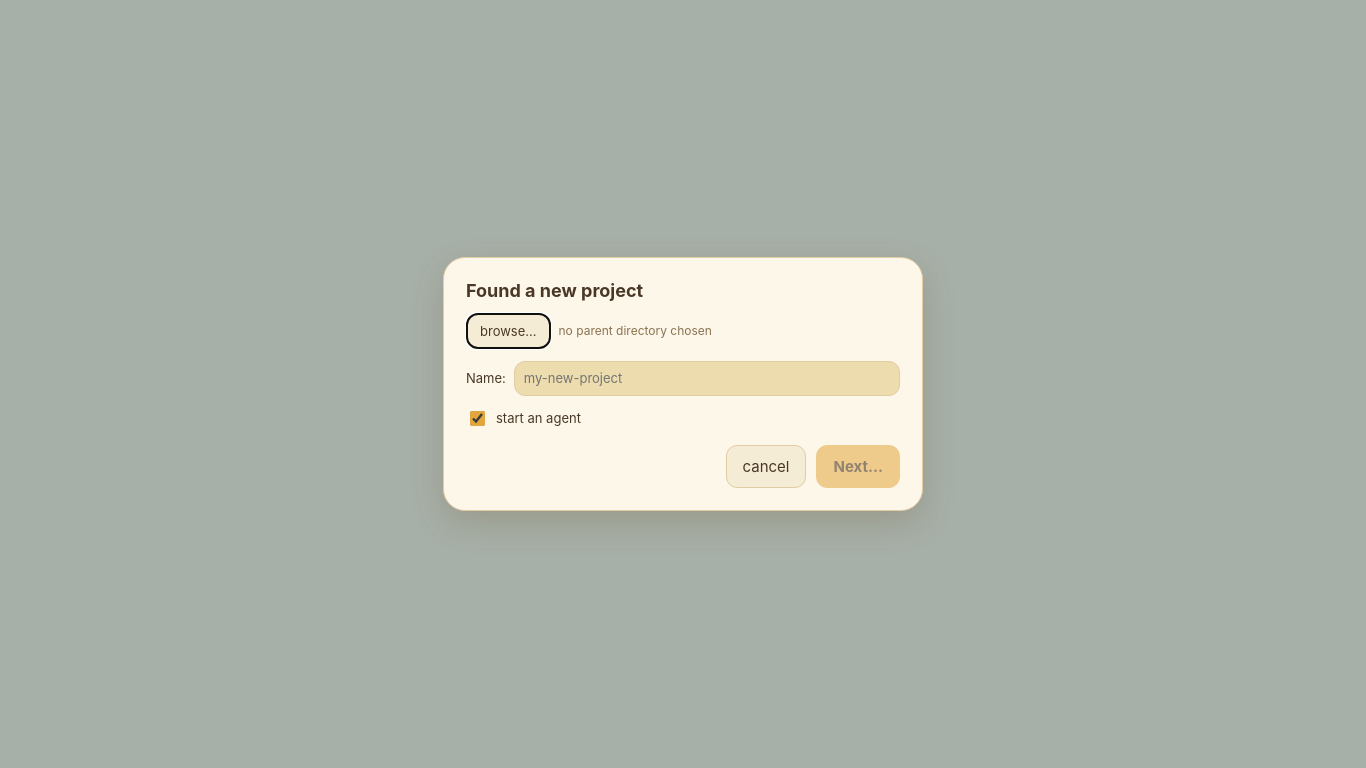
NewProjectPanel › disables 'Next…' until a parent directory AND a valid name are both chosen
Check: the button "Next…" is disabled, box [816,444,900,488]
Click the button "browse…" at (508, 331), box [466,313,550,349]
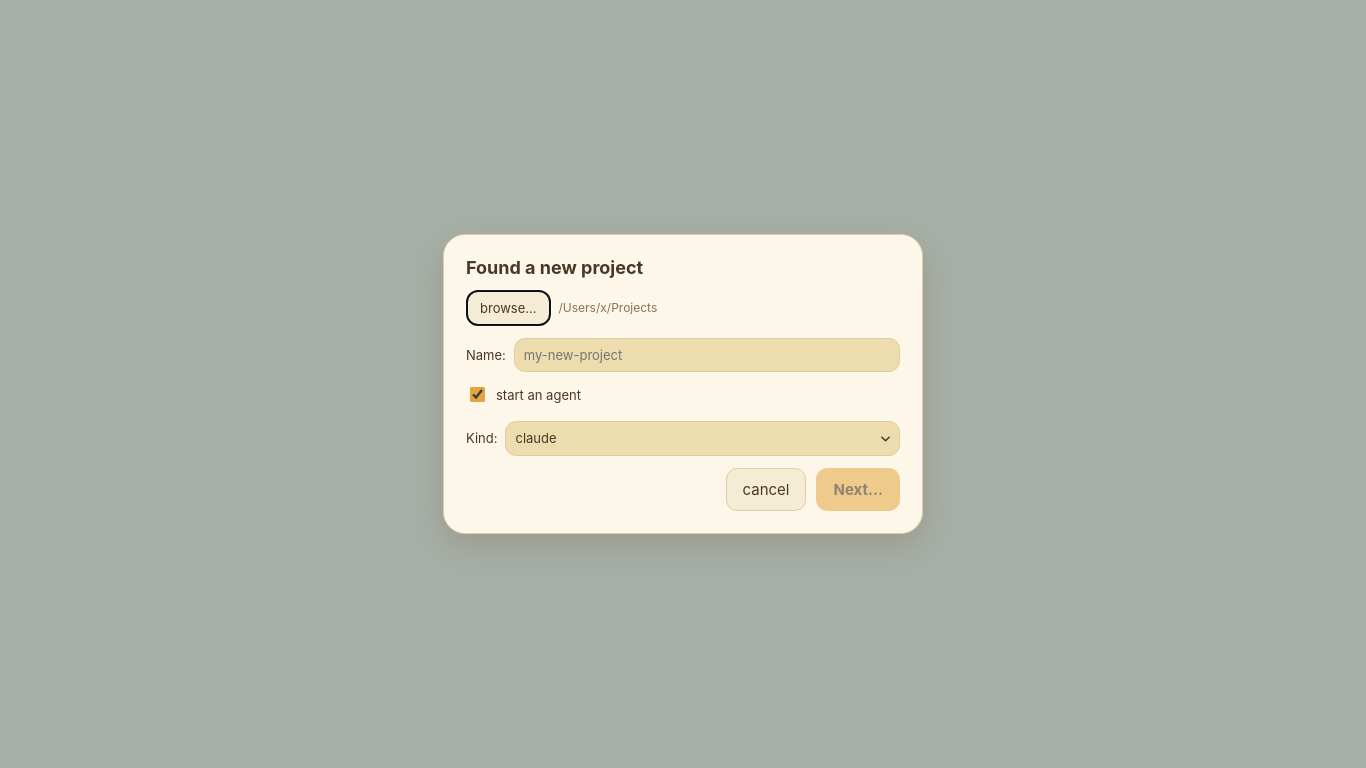
Check: the button "Next…" is disabled, box [816,468,900,511]
Check: the text "/Users/x/Projects" is shown, box [558,299,657,318]
Type "widget" into the field with placeholder "my-new-project" at (707, 355), box [514,338,900,372]
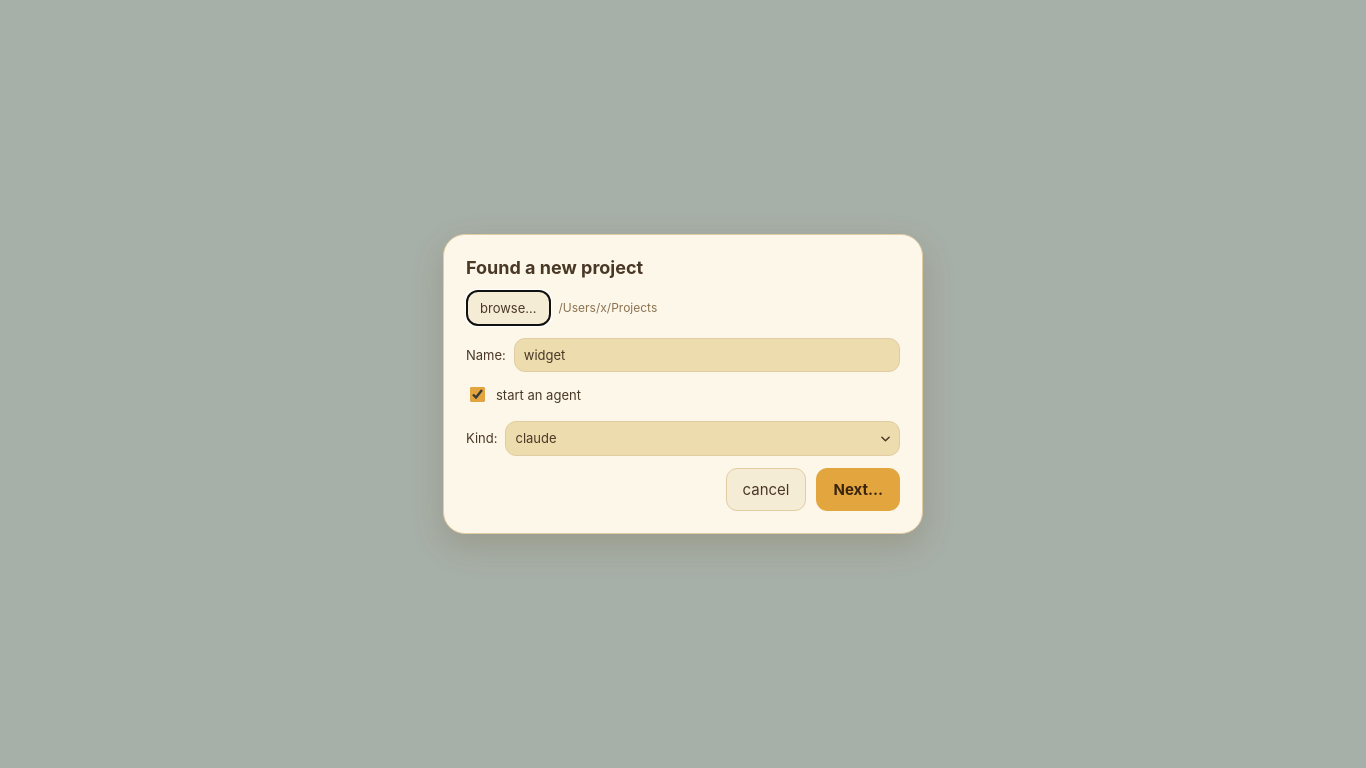
Check: the button "Next…" is enabled, box [816,468,900,511]
